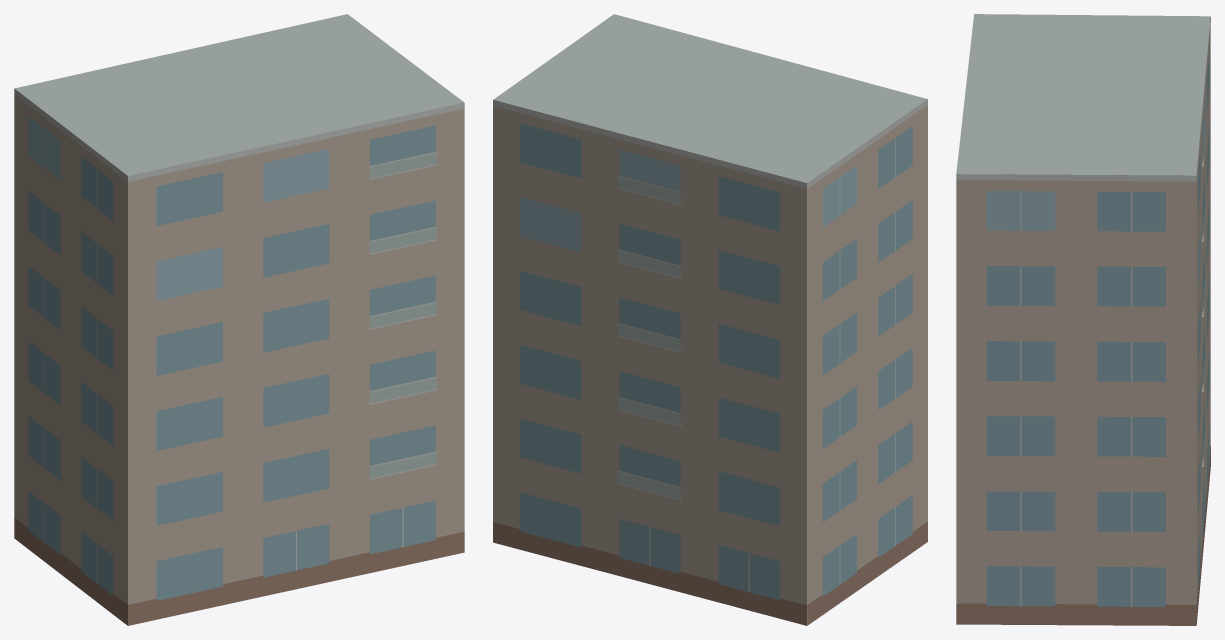
The model's file is survey-upis-32663857.glb.
3 renders of one model, left to right at view 1: azimuth 30°, elevation 25°; view 2: azimuth 150°, elevation 25°; view 3: azimuth 270°, elevation 25°, orthographic.
Visible parts, largest first — view 1: survey-upis-32663857.tmp; view 2: survey-upis-32663857.tmp; view 3: survey-upis-32663857.tmp.
Boxes of the visible parts, box(x1,y1,x2,y2) form: survey-upis-32663857.tmp: box(14, 14, 464, 625); survey-upis-32663857.tmp: box(493, 14, 927, 625); survey-upis-32663857.tmp: box(956, 14, 1210, 625).
Size of the model in its own units: 14.09 by 18.3 by 9.38.
